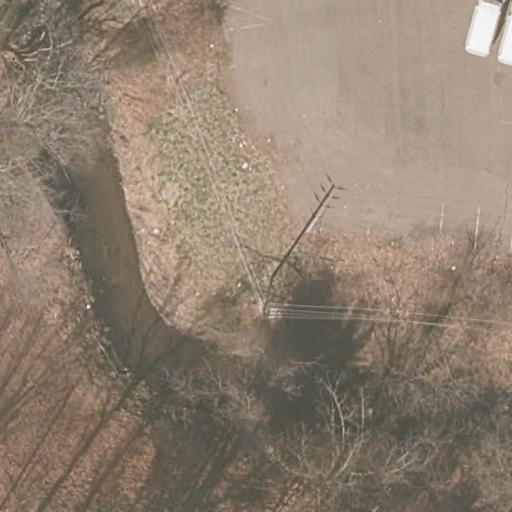DT: (253, 275, 276, 323)
